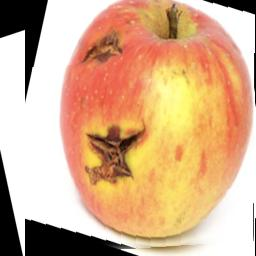Apple Rotten: (25, 0, 256, 256)
